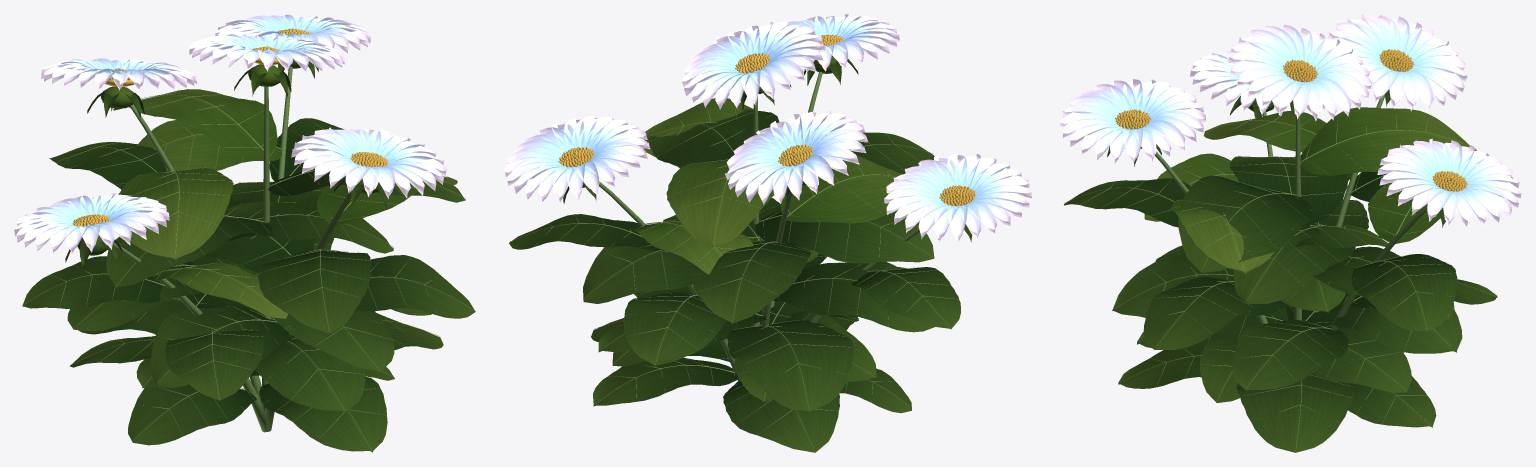
The model's file is daisy-dream-10.glb.
The picture shows the model from 3 angles, left to right: view 1: azimuth 30°, elevation 25°; view 2: azimuth 150°, elevation 25°; view 3: azimuth 270°, elevation 25°; orthographic projection. The views are drawn at different scales.
Visible parts, largest first — view 1: daisy_dream_stage_10_leaf_veins.020, daisy_dream_stage_10_daisy_petal.020, daisy_dream_stage_10_young_leaf.020, daisy_dream_stage_10_raised_midveins.020, daisy_dream_stage_10_stem_fibres.020, daisy_dream_stage_10_pollen_granules.020; view 2: daisy_dream_stage_10_leaf_veins.020, daisy_dream_stage_10_daisy_petal.020, daisy_dream_stage_10_young_leaf.020, daisy_dream_stage_10_raised_midveins.020, daisy_dream_stage_10_pollen_granules.020, daisy_dream_stage_10_stem_fibres.020; view 3: daisy_dream_stage_10_leaf_veins.020, daisy_dream_stage_10_daisy_petal.020, daisy_dream_stage_10_young_leaf.020, daisy_dream_stage_10_raised_midveins.020, daisy_dream_stage_10_pollen_granules.020, daisy_dream_stage_10_stem_fibres.020.
Boxes of the visible parts, box(x1,y1,x2,y2) form: daisy_dream_stage_10_leaf_veins.020: box(22, 61, 475, 452); daisy_dream_stage_10_daisy_petal.020: box(14, 14, 446, 253); daisy_dream_stage_10_young_leaf.020: box(77, 59, 457, 318); daisy_dream_stage_10_raised_midveins.020: box(22, 89, 474, 450); daisy_dream_stage_10_stem_fibres.020: box(113, 66, 351, 432); daisy_dream_stage_10_pollen_granules.020: box(72, 28, 388, 226); daisy_dream_stage_10_leaf_veins.020: box(509, 59, 972, 452); daisy_dream_stage_10_daisy_petal.020: box(504, 14, 1031, 242); daisy_dream_stage_10_young_leaf.020: box(582, 55, 919, 274); daisy_dream_stage_10_raised_midveins.020: box(509, 104, 957, 451); daisy_dream_stage_10_pollen_granules.020: box(558, 34, 976, 206); daisy_dream_stage_10_stem_fibres.020: box(599, 72, 919, 380); daisy_dream_stage_10_leaf_veins.020: box(1064, 89, 1513, 452); daisy_dream_stage_10_daisy_petal.020: box(1060, 14, 1521, 228); daisy_dream_stage_10_young_leaf.020: box(1125, 98, 1476, 273); daisy_dream_stage_10_raised_midveins.020: box(1064, 108, 1495, 451); daisy_dream_stage_10_pollen_granules.020: box(1115, 49, 1467, 191); daisy_dream_stage_10_stem_fibres.020: box(1154, 94, 1427, 330).
Size of the model in its own units: 0.4146 by 0.3499 by 0.391.
6 materials, 3 textured.
